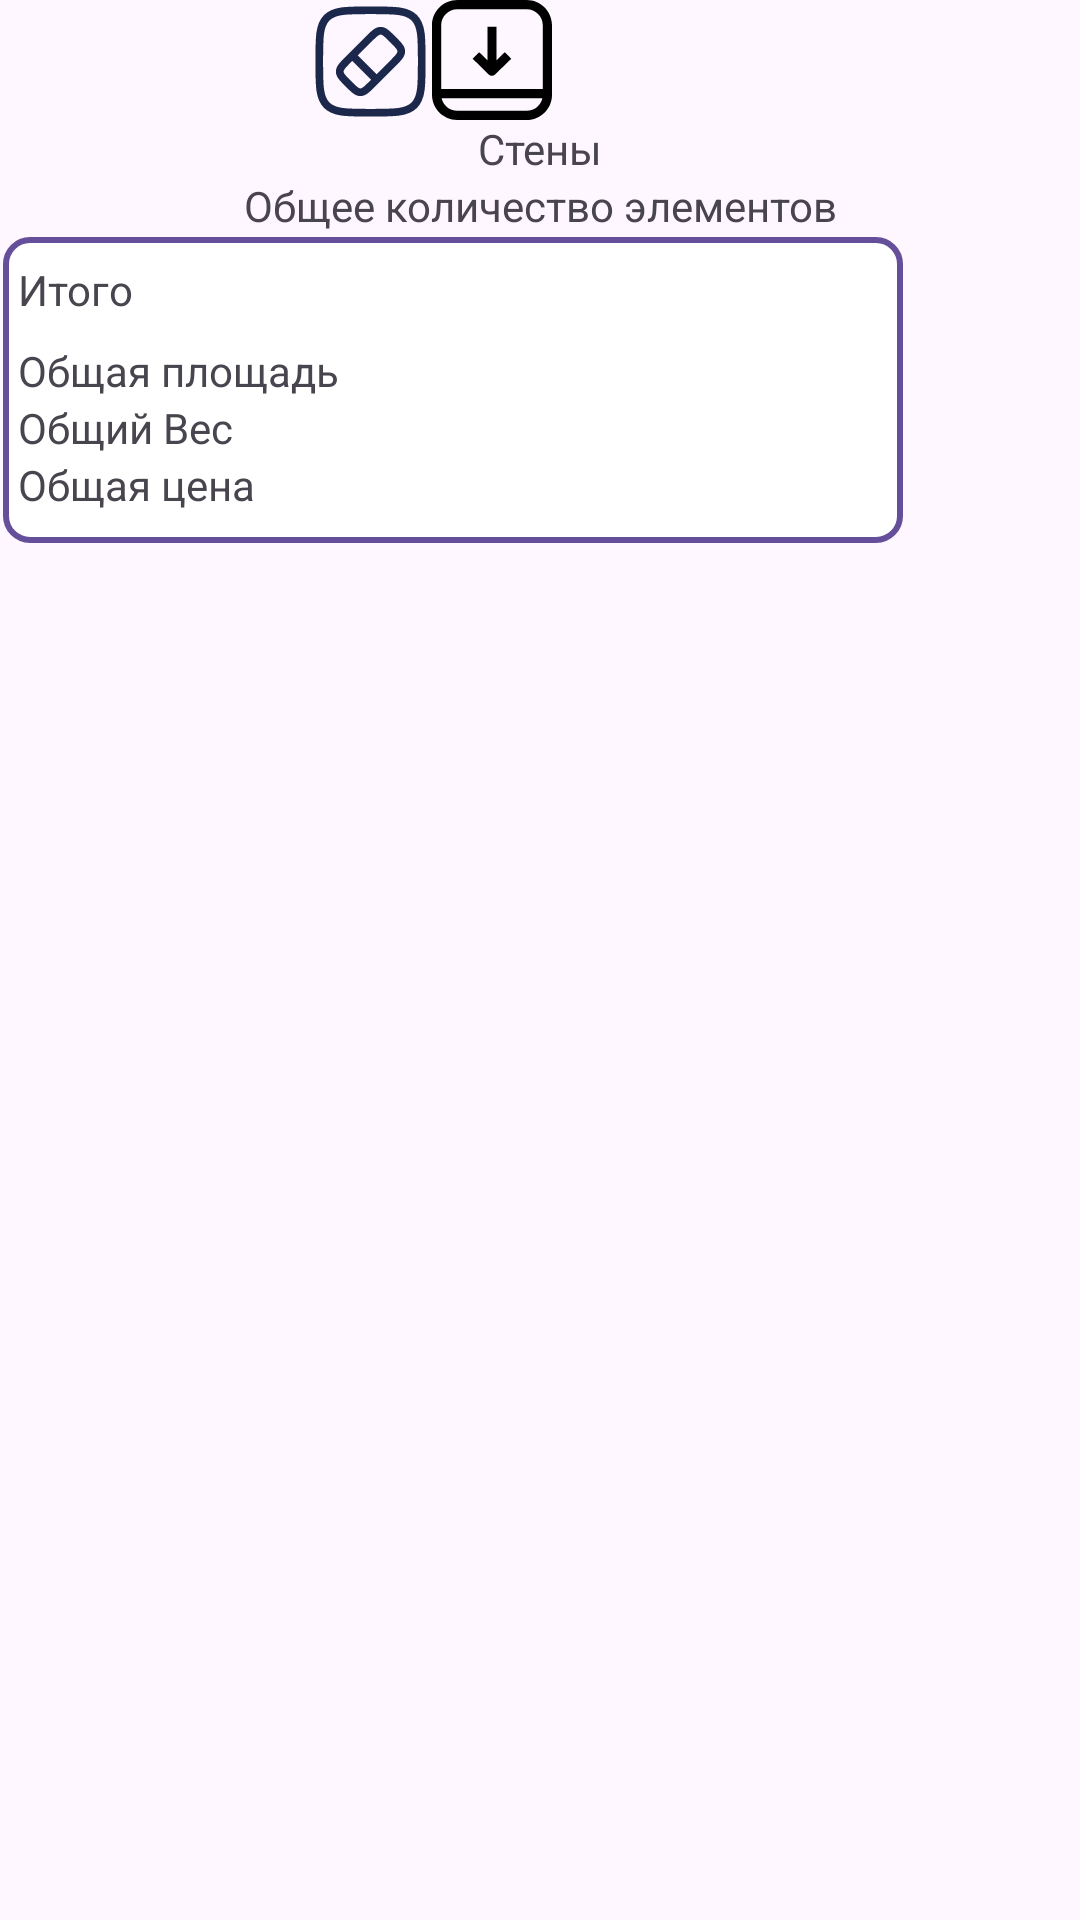

Named icons in this screenshot (1080w x 1920h) and their bounding boxes, bbox=[x1, y1, x2, y2]:
eraser square: bbox=[315, 6, 426, 117]
